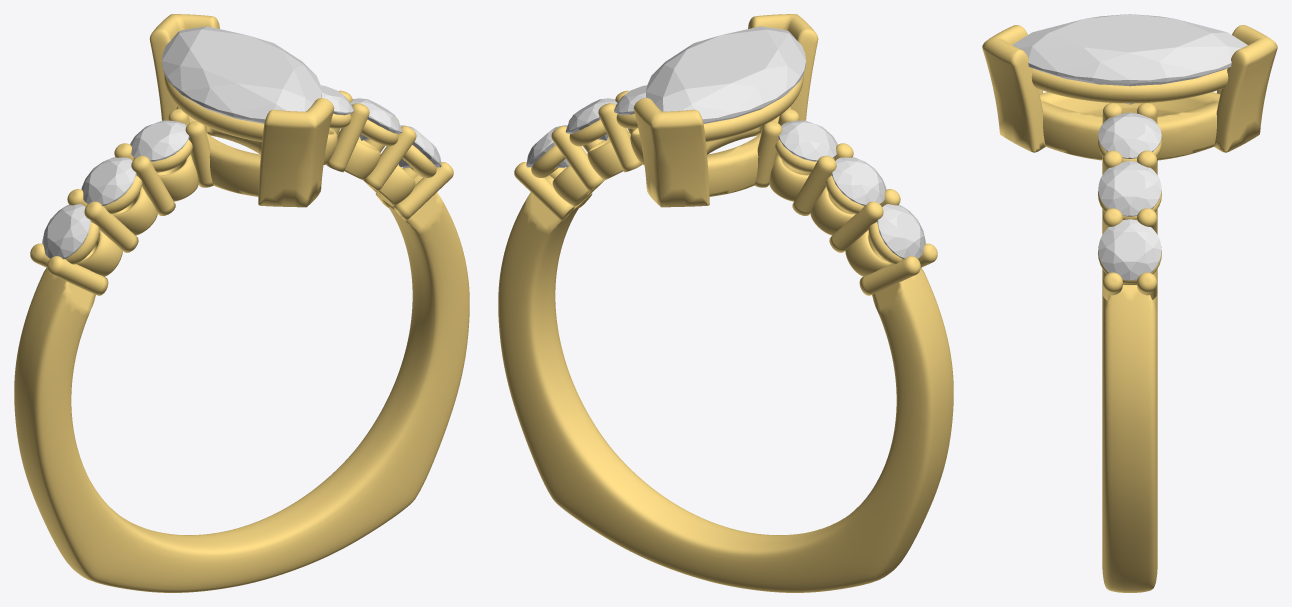
Rendered from diamond-marquise-yellowgold-protectededges2prongs-europeanshank-7stone.glb.
3 views of the same model, side by side, from view 1: azimuth 30°, elevation 25°; view 2: azimuth 150°, elevation 25°; view 3: azimuth 270°, elevation 25° (orthographic).
Parts seen in each view (by area): view 1: metal, stone, side, side.003, side.004, side.006, side.005; view 2: metal, stone, side, side.003, side.004, side.006, side.005; view 3: metal, stone, side.005, side.006, side.007.
Part boxes in pixels (bbox=[...]): metal: bbox=[14, 14, 469, 592]; stone: bbox=[162, 26, 321, 123]; side: bbox=[42, 204, 90, 259]; side.003: bbox=[81, 157, 136, 205]; side.004: bbox=[130, 120, 189, 161]; side.006: bbox=[350, 98, 402, 140]; side.005: bbox=[398, 125, 441, 167]; metal: bbox=[498, 14, 953, 592]; stone: bbox=[646, 26, 805, 123]; side: bbox=[877, 204, 925, 259]; side.003: bbox=[831, 157, 886, 205]; side.004: bbox=[778, 120, 837, 161]; side.006: bbox=[565, 98, 617, 140]; side.005: bbox=[526, 125, 569, 167]; metal: bbox=[982, 25, 1277, 592]; stone: bbox=[1012, 14, 1247, 104]; side.005: bbox=[1098, 219, 1161, 280]; side.006: bbox=[1098, 161, 1161, 216]; side.007: bbox=[1098, 112, 1161, 158].
Size of the model in its own units: 20.11 by 22.73 by 11.69.
